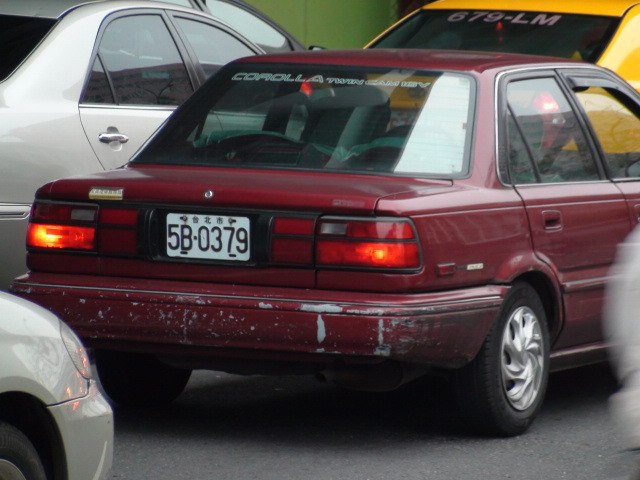plate: (164, 211, 253, 267)
